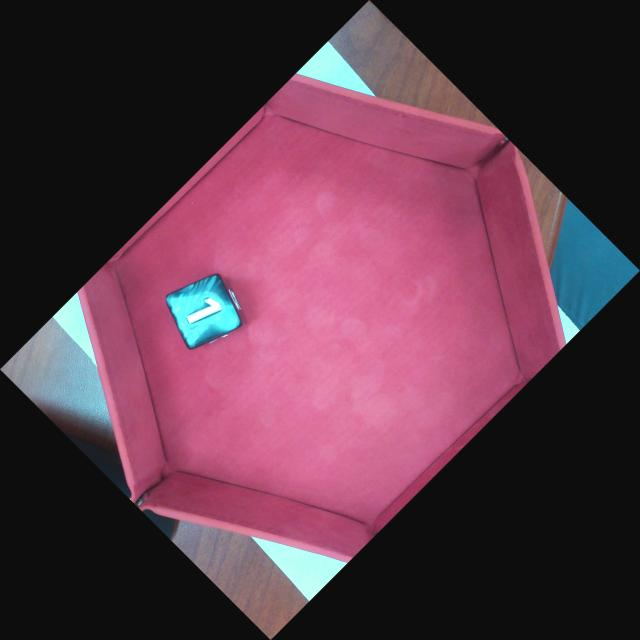dice: (164, 270, 244, 352)
